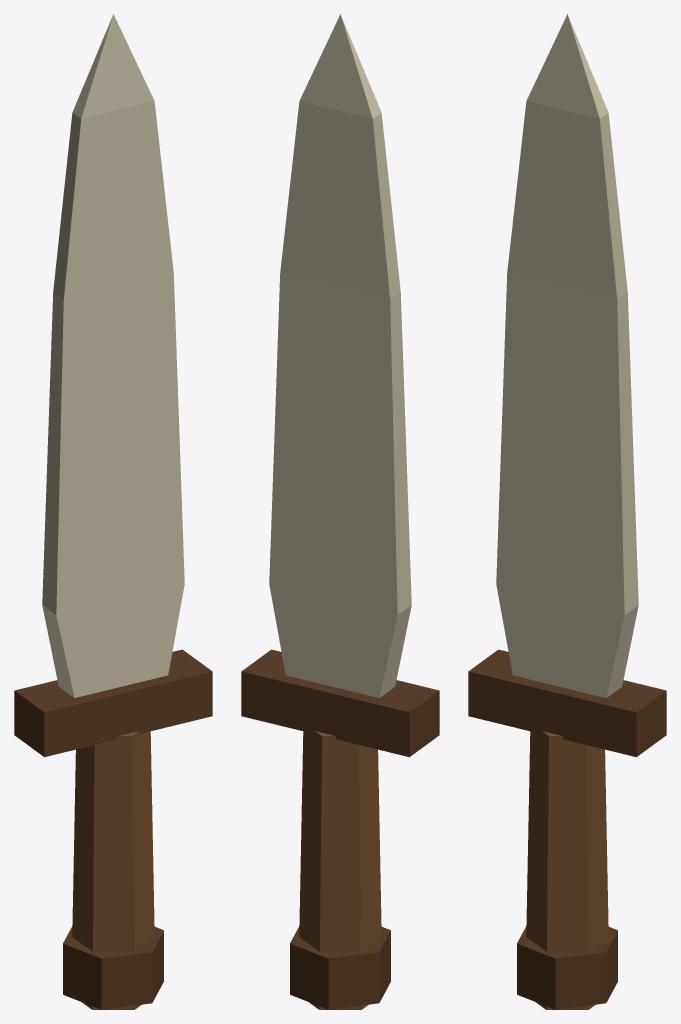
The model's file is wpn_sword_wood_01.fbx.
The picture shows the model from 3 angles, left to right: view 1: azimuth 30°, elevation 25°; view 2: azimuth 150°, elevation 25°; view 3: azimuth 330°, elevation 25°; orthographic projection.
Parts seen in each view (by area): view 1: wpn_sword_wood_01; view 2: wpn_sword_wood_01; view 3: wpn_sword_wood_01.
Boxes of the visible parts, bbox=[...] form: wpn_sword_wood_01: bbox=[14, 14, 212, 1009]; wpn_sword_wood_01: bbox=[241, 14, 439, 1009]; wpn_sword_wood_01: bbox=[468, 14, 666, 1009].
Size of the model in its own units: 0.11 by 0.0573 by 0.613.
